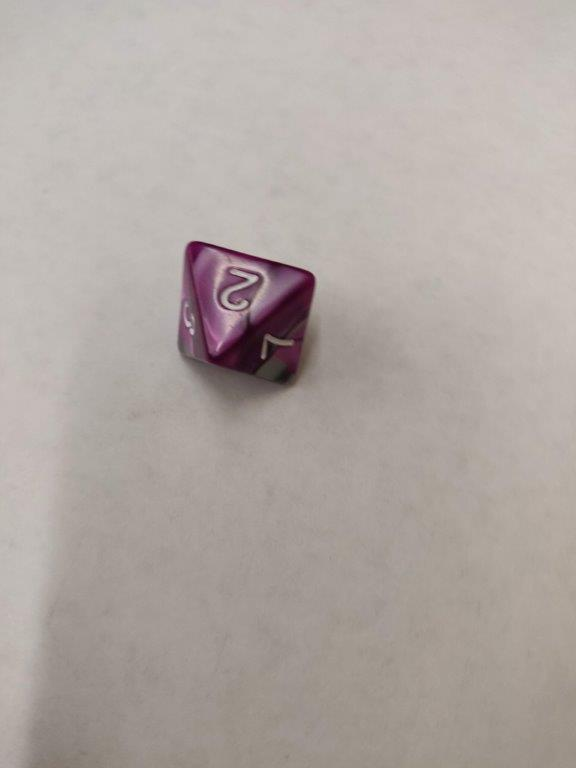d8-2: (175, 240, 315, 387)
